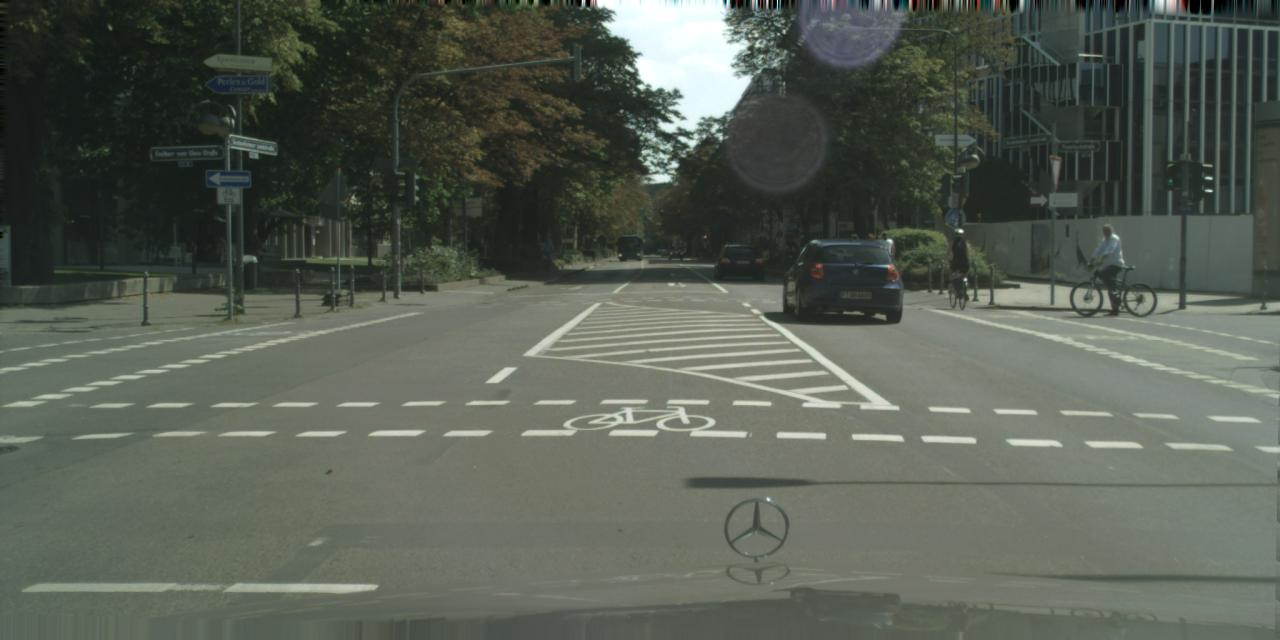ped: (1092, 223, 1130, 316), (944, 226, 972, 294), (200, 238, 218, 284), (877, 232, 895, 276), (865, 234, 881, 273), (848, 233, 862, 271), (541, 237, 554, 269)
